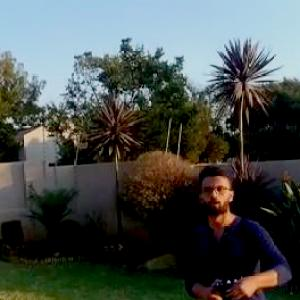follow: (180, 160, 300, 299)
